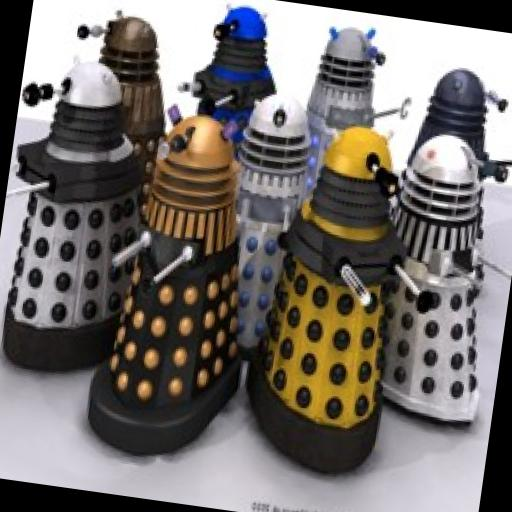dalek: (230, 113, 456, 491), (76, 96, 274, 468), (0, 47, 167, 393), (371, 128, 512, 430), (210, 87, 326, 366), (298, 16, 426, 201), (166, 0, 291, 148), (402, 55, 512, 214), (62, 0, 181, 129)
